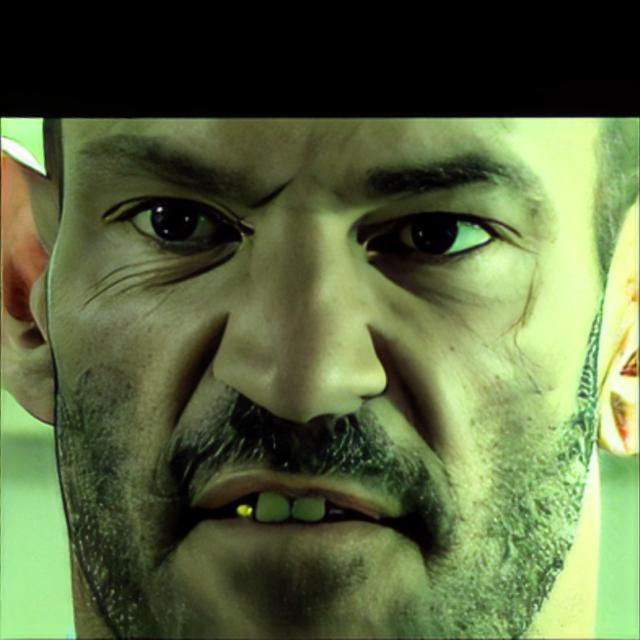disgust: (48, 121, 606, 640)
